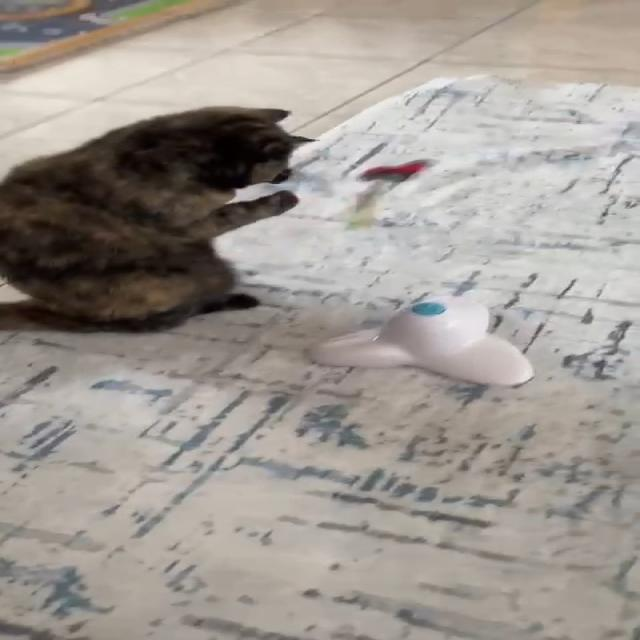authorized: (0, 104, 319, 334)
